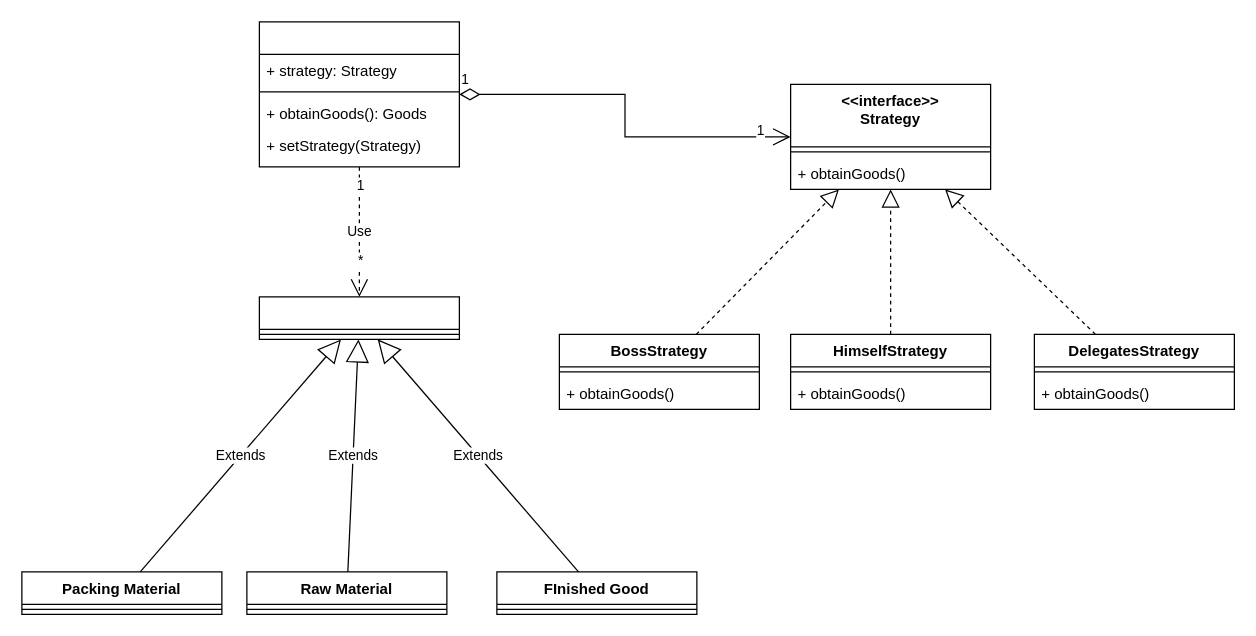
Image size: 1256x636. Some labels were removed from this diagram. Here are the shapes that lost their labels. From the top down, the box of each, then its label:
(258, 21, 459, 167): Storekeeper
(258, 296, 459, 339): Goods
